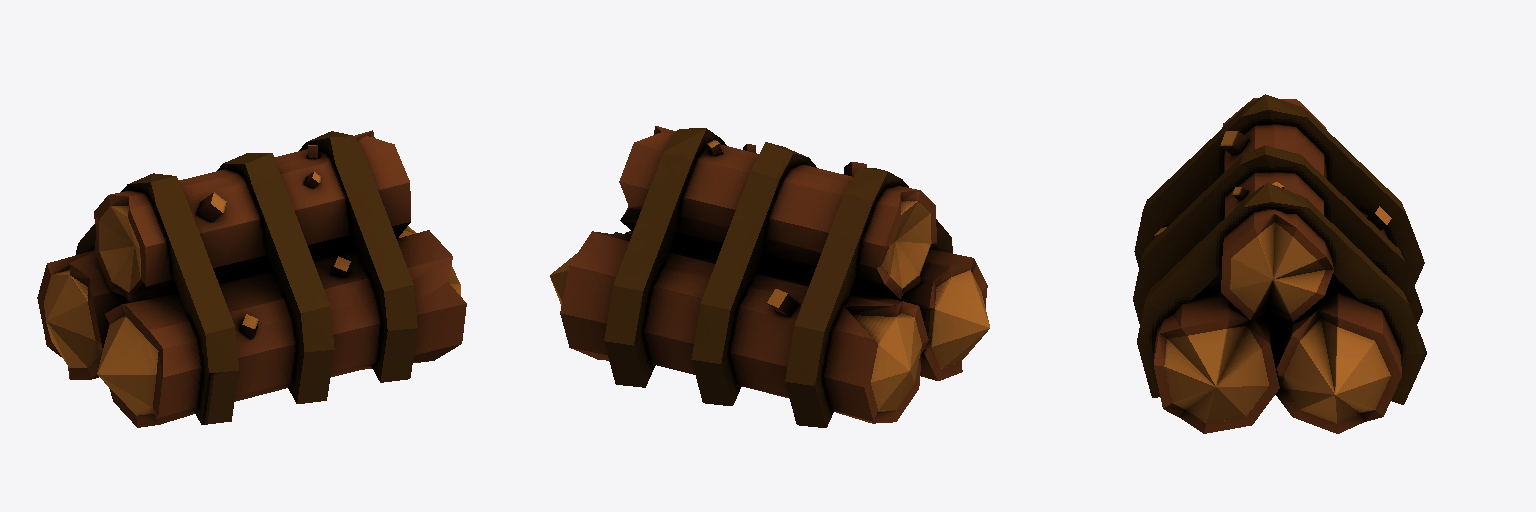
3 renders of one model, left to right at view 1: azimuth 30°, elevation 25°; view 2: azimuth 150°, elevation 25°; view 3: azimuth 270°, elevation 25°, orthographic.
Parts seen in each view (by area): view 1: Tronc-rope_Cylindre.002_Cylindre.003; view 2: Tronc-rope_Cylindre.002_Cylindre.003; view 3: Tronc-rope_Cylindre.002_Cylindre.003.
Part boxes in pixels (x1,y1,x2,y2): Tronc-rope_Cylindre.002_Cylindre.003: (37, 130, 466, 427); Tronc-rope_Cylindre.002_Cylindre.003: (550, 126, 989, 427); Tronc-rope_Cylindre.002_Cylindre.003: (1133, 94, 1426, 433).
Bounding box in the file's own units: 6.84 × 3.65 × 4.57.
Materials: 2 (2 with a texture image).